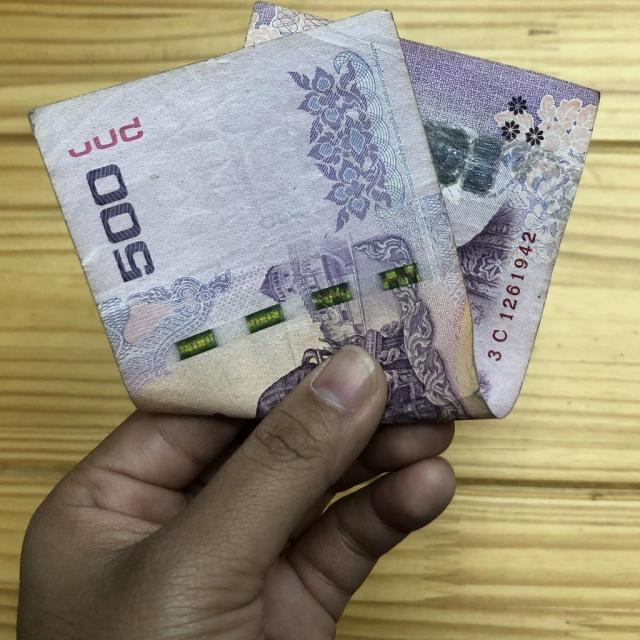THAI500: (30, 3, 599, 421)
